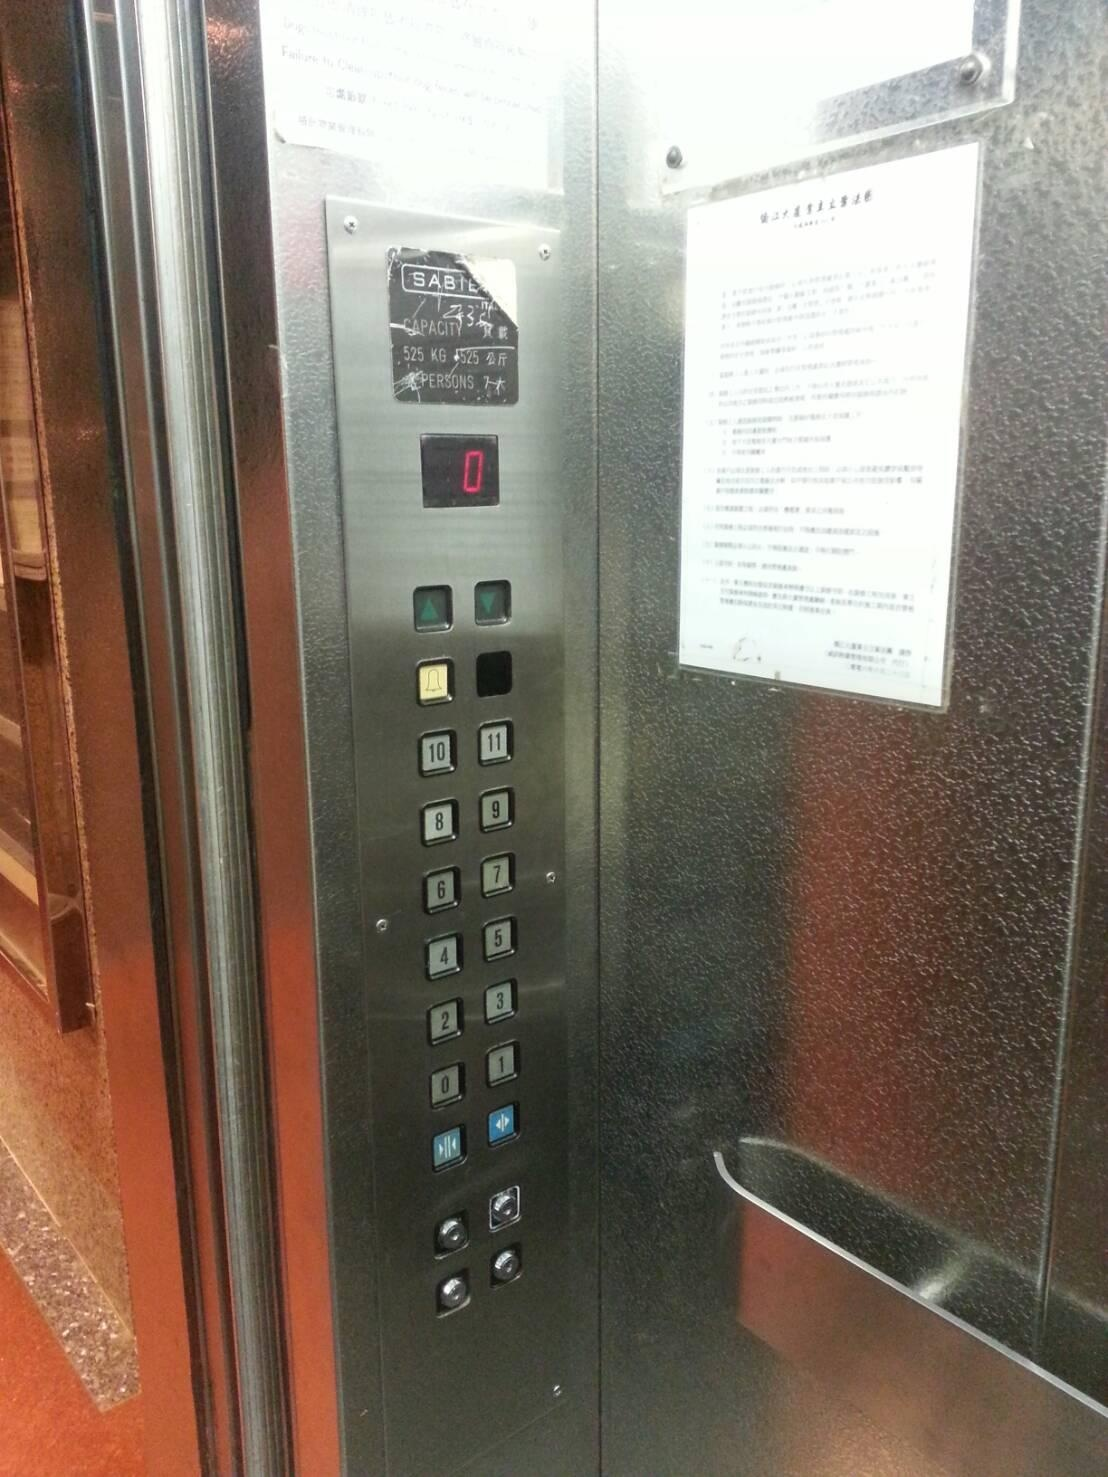0: (426, 1060, 468, 1109)
1: (482, 1038, 523, 1087)
10: (413, 727, 459, 777)
11: (473, 717, 514, 767)
2: (422, 995, 467, 1044)
3: (480, 978, 519, 1024)
4: (420, 930, 464, 982)
5: (478, 911, 519, 963)
6: (418, 862, 462, 915)
7: (475, 848, 517, 900)
8: (417, 796, 461, 848)
9: (474, 784, 517, 835)
alarm: (413, 656, 459, 706)
close: (427, 1122, 468, 1170)
down: (471, 578, 514, 627)
empty: (471, 649, 514, 700)
keyhole: (432, 1212, 470, 1255), (486, 1186, 523, 1226), (488, 1245, 524, 1285), (436, 1271, 473, 1311)
led: (416, 431, 504, 510)
open: (482, 1101, 521, 1148)
up: (409, 584, 457, 634)
